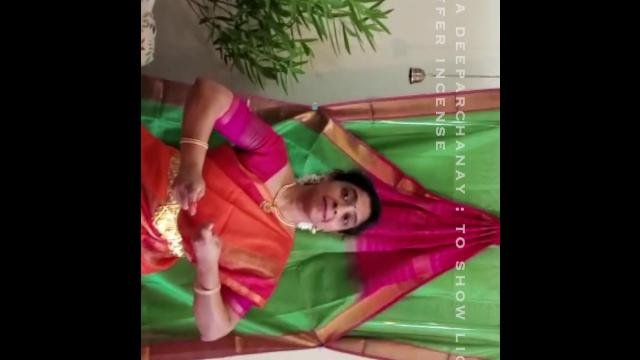kapitth: (178, 208, 235, 270), (152, 167, 222, 217)
